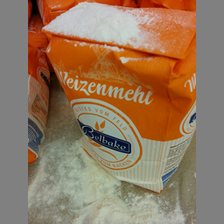flour: (42, 2, 195, 193)
